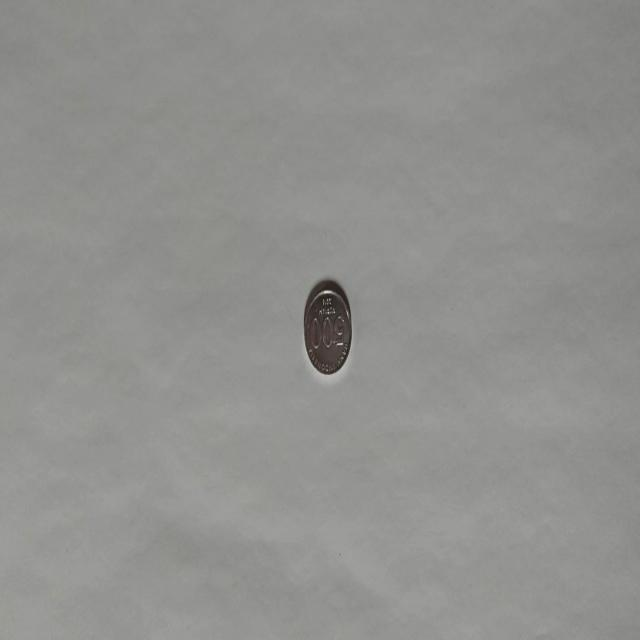lima ratus rupiah: (302, 278, 352, 375)
